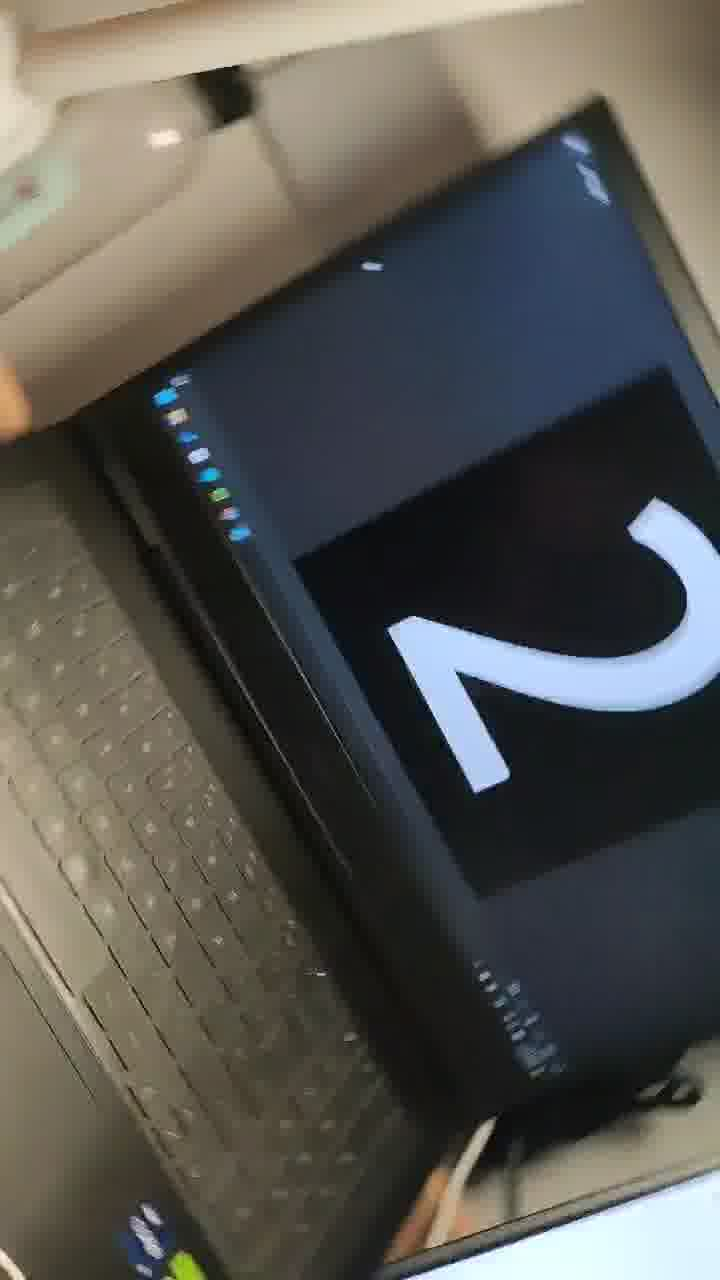two: (352, 412, 720, 923)
